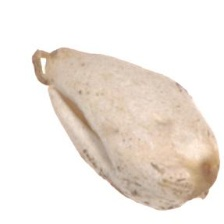L1: (31, 45, 63, 94), (192, 163, 219, 201)
L2: (32, 47, 220, 211)
